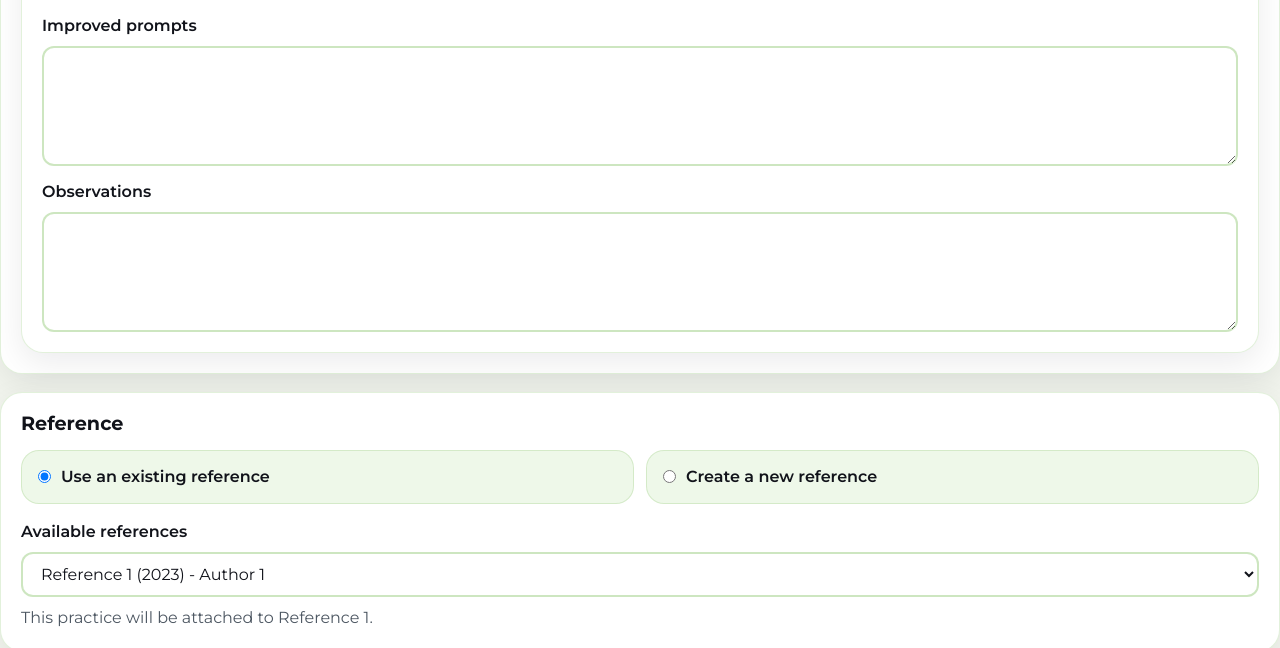
Test: PracticeForm Component › Reference Section - Create Mode › switches reference mode from existing to new
(page scrolled)
Step 1. Click the radio button labelled "Create a new reference" → (670, 477), box [663,470,676,483]
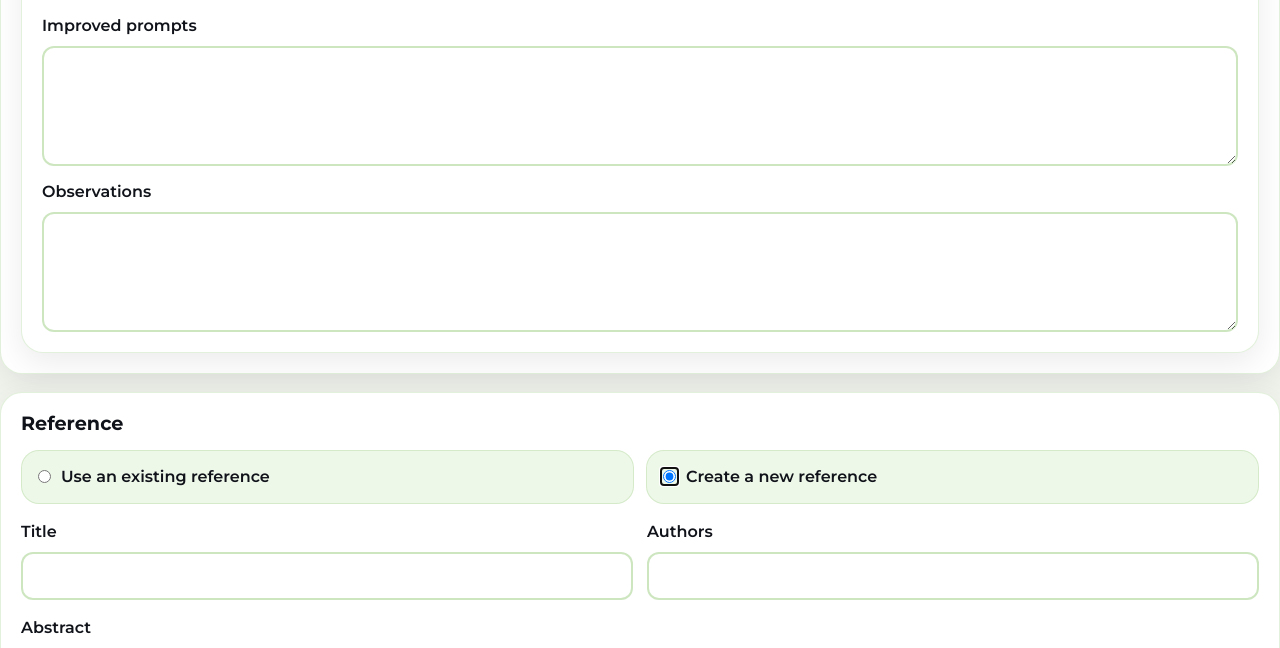
Expected: the radio button labelled "Create a new reference" is checked, [663,470,676,483]
Expected: the field labelled "Title" is shown, [21,552,633,600]
